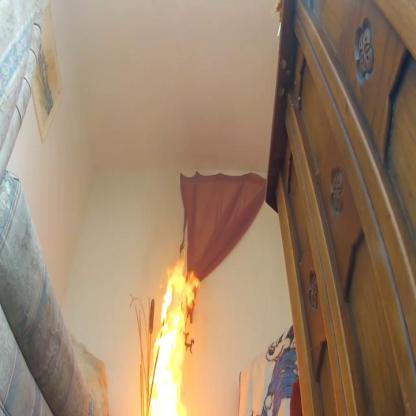fire: (144, 256, 203, 416)
